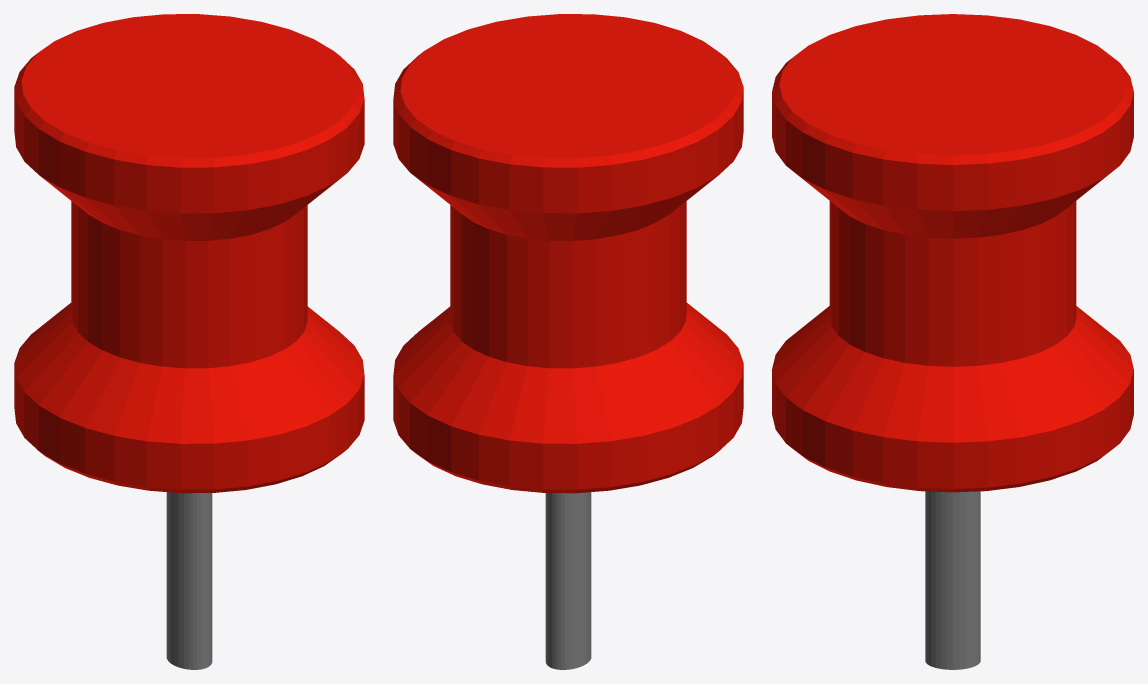
Rendered from pin.fbx.
The picture shows the model from 3 angles, left to right: view 1: azimuth 30°, elevation 25°; view 2: azimuth 150°, elevation 25°; view 3: azimuth 270°, elevation 25°; orthographic projection.
Parts seen in each view (by area): view 1: Cylinder.011; view 2: Cylinder.011; view 3: Cylinder.011.
Boxes of the visible parts, x1,y1,x2,y2 form: Cylinder.011: (14,14,364,669); Cylinder.011: (393,14,743,669); Cylinder.011: (772,14,1133,669).
Bounding box in the file's own units: 143 × 260 × 148.
